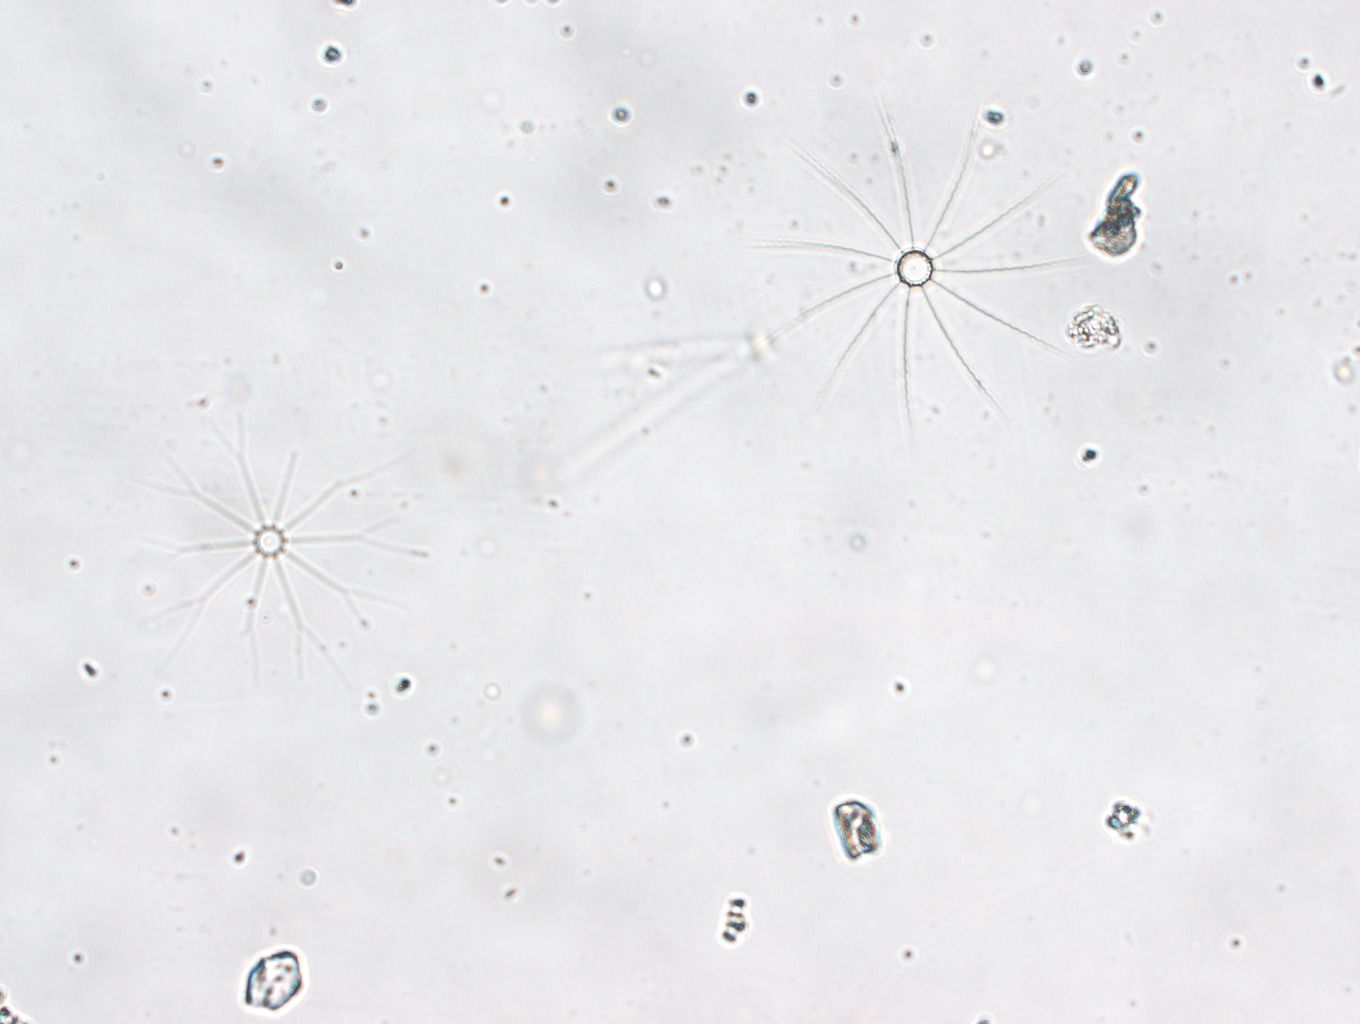bacteriastrum: (749, 86, 1090, 431), (130, 395, 433, 695)
